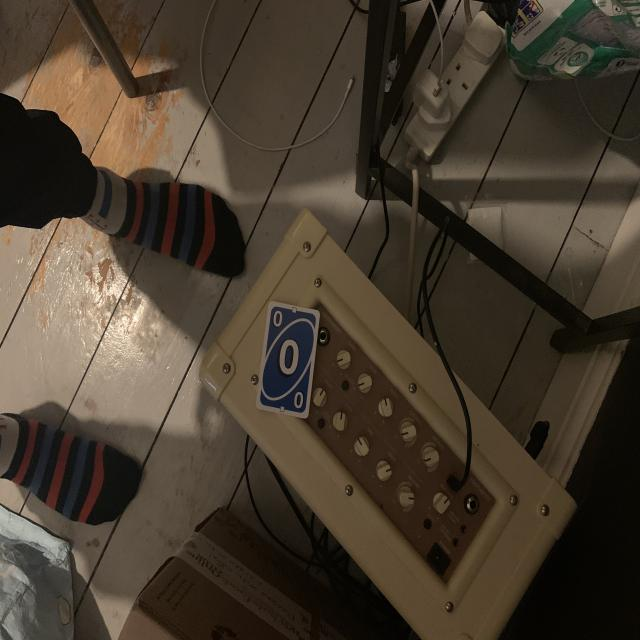lblue-0: (270, 309, 286, 331)
